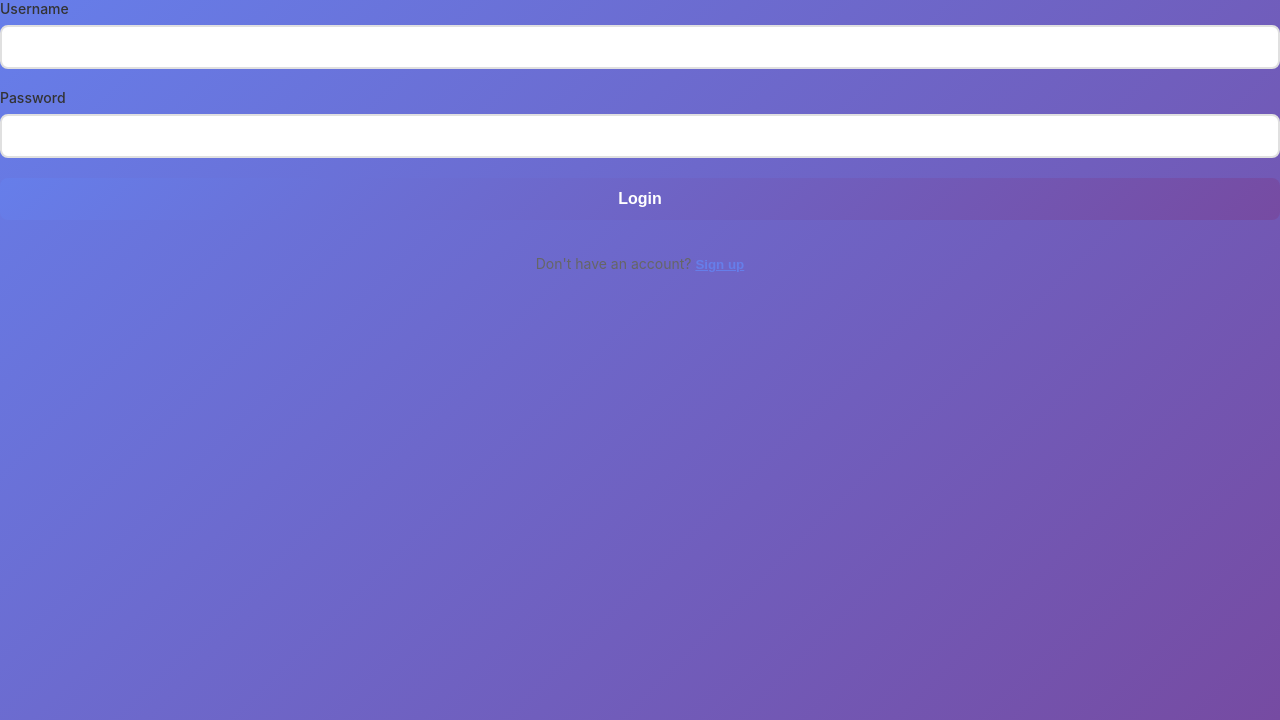
it: Login Component › clears error when user starts typing
// Trigger error
Type "wronguser" into the field labelled "Username".
click(640, 47); type("wronguser")  # box x1=0 y1=25 x2=1279 y2=69
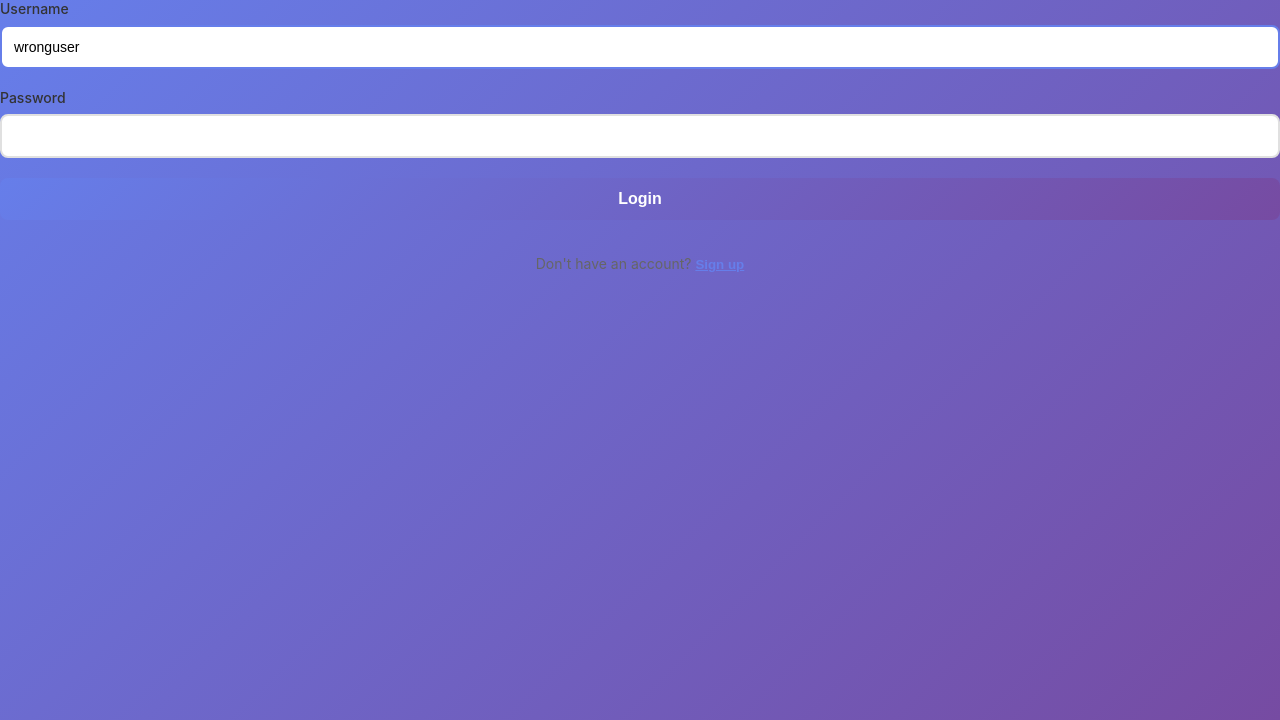
Type "wrongpass" into the password field labelled "Password".
click(640, 136); type("wrongpass")  # box x1=0 y1=114 x2=1279 y2=158
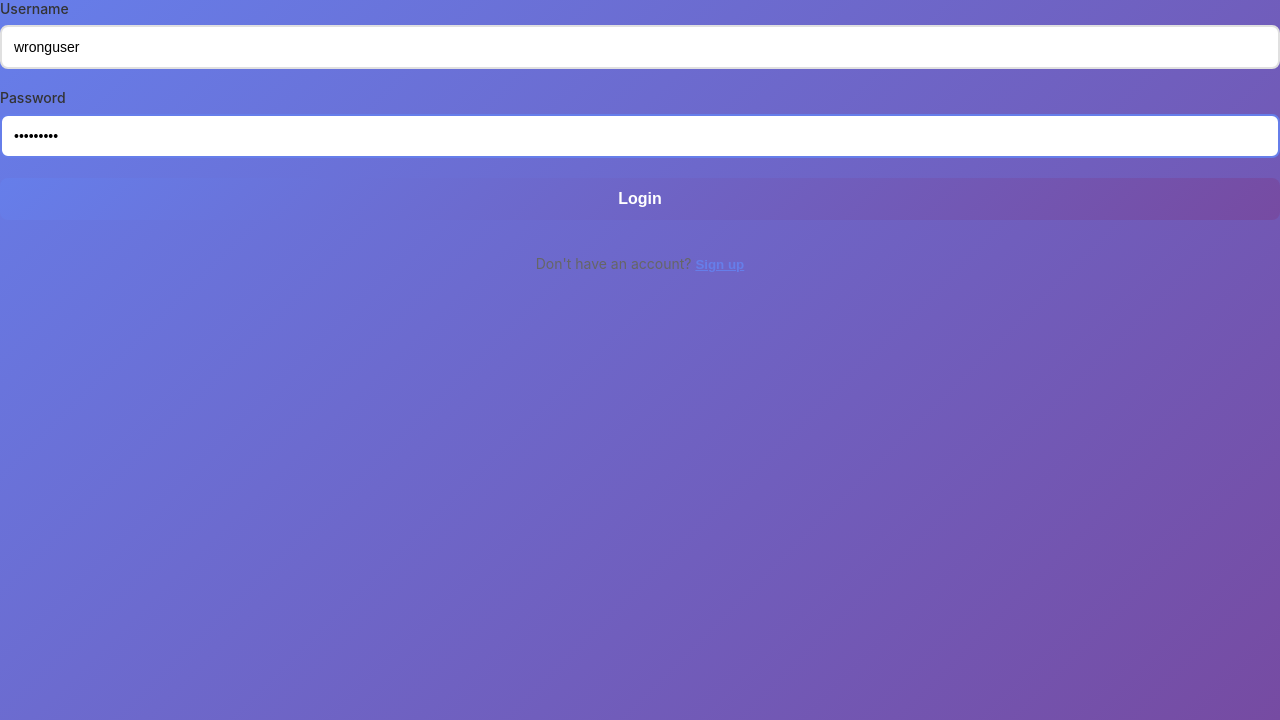
Click the button "Login".
click(640, 199)  # box x1=0 y1=178 x2=1279 y2=220
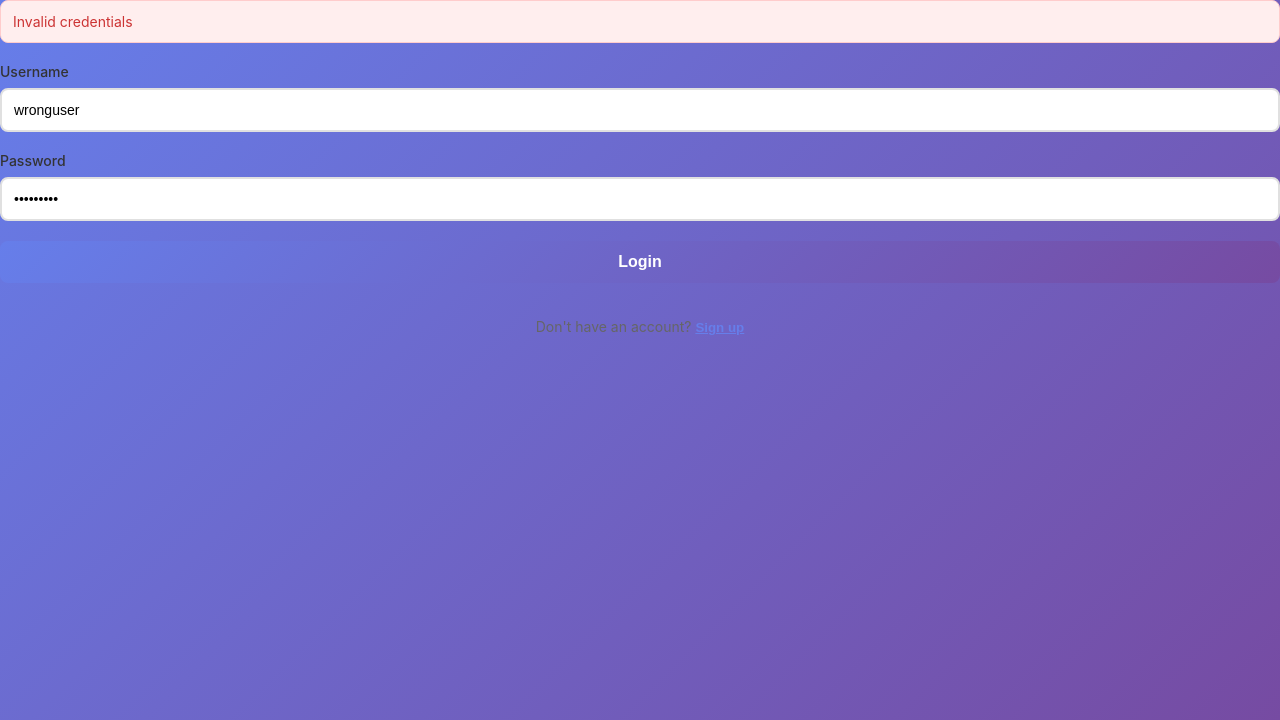
Check: the text "Invalid credentials" is shown, box x1=0 y1=0 x2=1279 y2=43
// Start typing - error should clear
Type "x" into the field labelled "Username".
click(640, 110); type("x")  # box x1=0 y1=88 x2=1279 y2=132
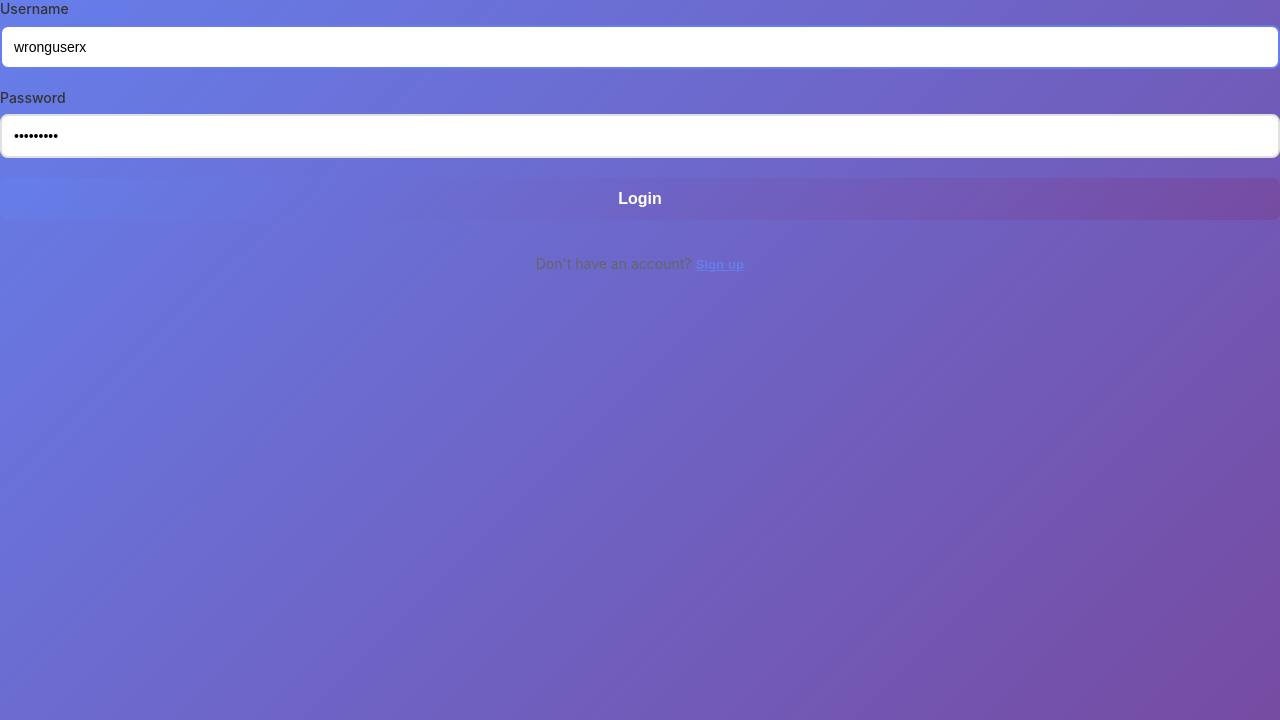
Check: the text "Invalid credentials" is gone
